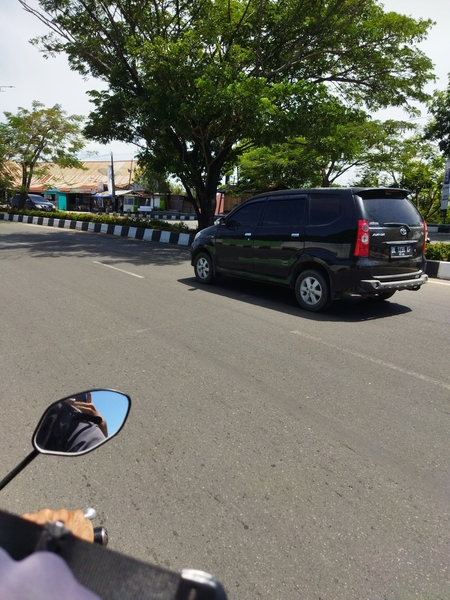car: (187, 176, 432, 322)
